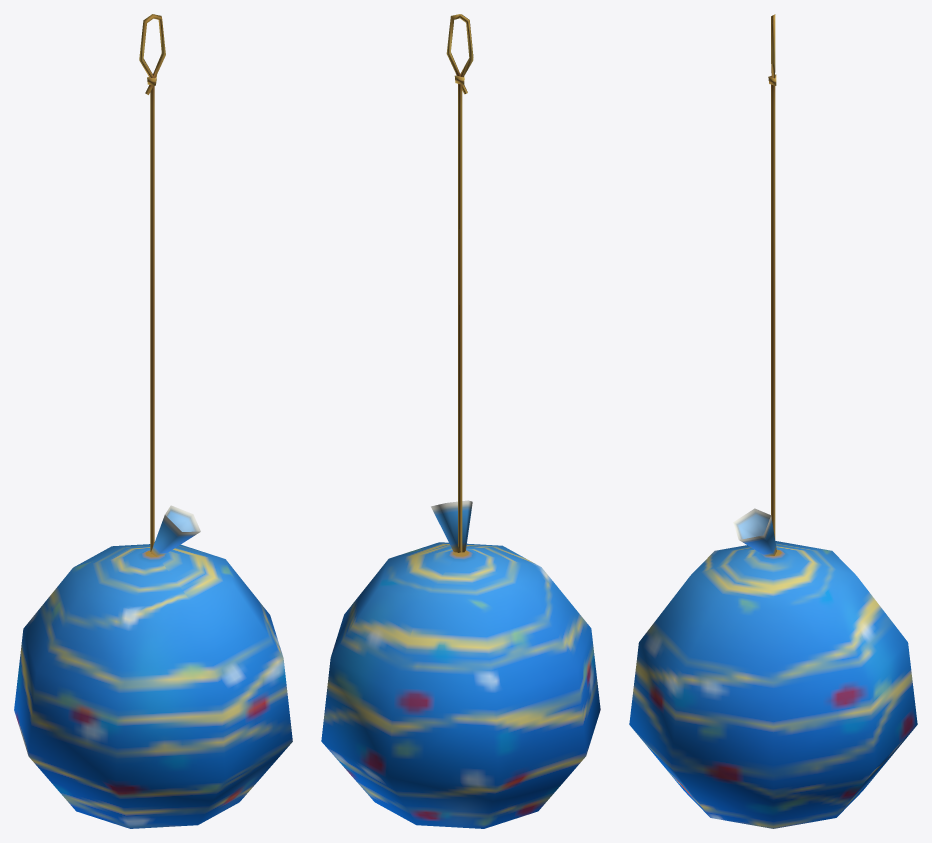
File: jsf_WaterBalloon_02_a.fbx
The picture shows the model from 3 angles, left to right: view 1: azimuth 30°, elevation 25°; view 2: azimuth 150°, elevation 25°; view 3: azimuth 270°, elevation 25°; orthographic projection.
Visible parts, largest first — view 1: jsf_WaterBalloon_02_a; view 2: jsf_WaterBalloon_02_a; view 3: jsf_WaterBalloon_02_a.
Part boxes in pixels (<box>): jsf_WaterBalloon_02_a: <box>14,14,292,828</box>; jsf_WaterBalloon_02_a: <box>321,14,600,828</box>; jsf_WaterBalloon_02_a: <box>629,14,917,828</box>.
Bounding box in the file's own units: 10.92 × 33.54 × 10.92.
